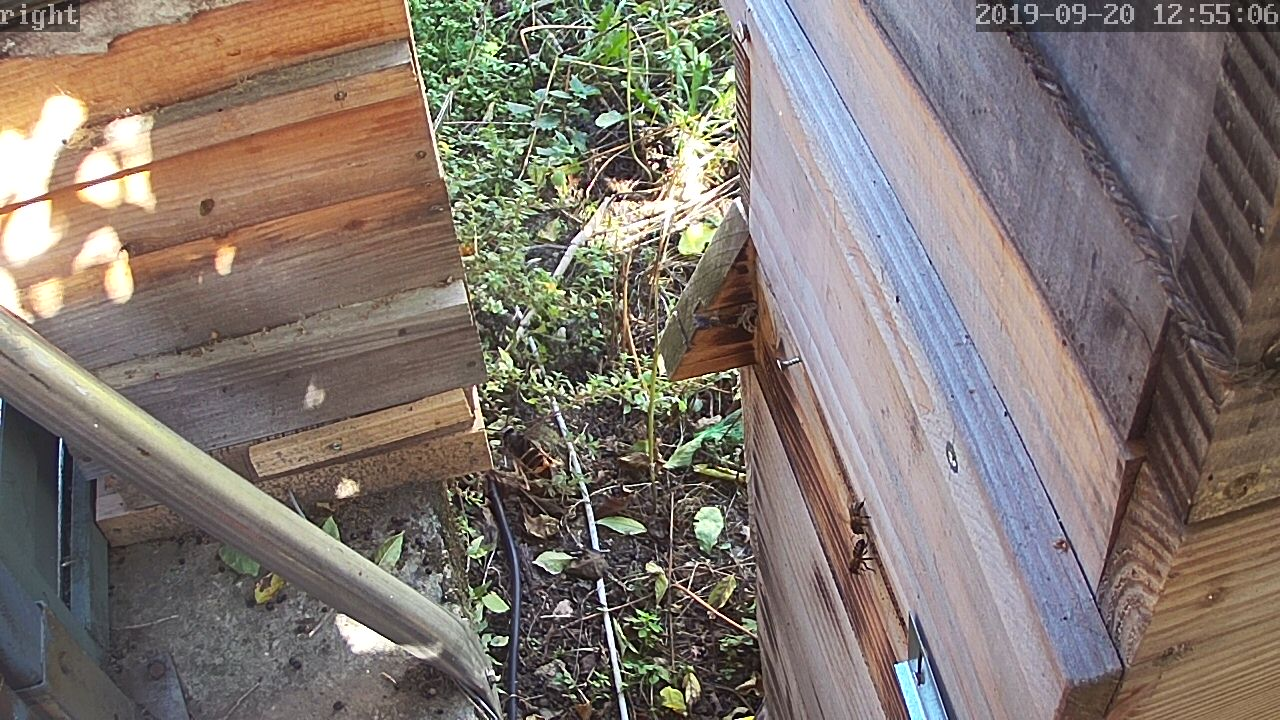bee: (843, 528, 882, 579), (831, 493, 876, 535)
hornet: (484, 417, 552, 484)
